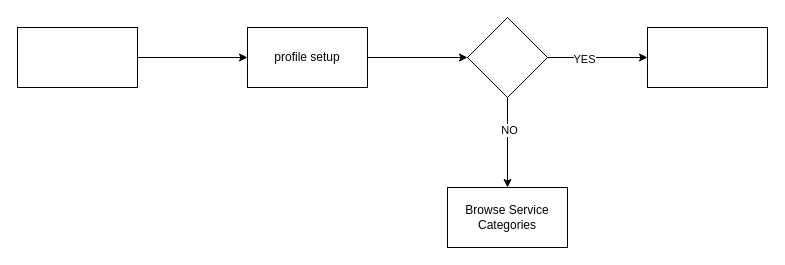
The diagram is 785 pixels wide and 265 high, and some of its shapes have lost their labels. Each missing label, with the box of its shape:
Provider?: (466, 16, 548, 98)
sign up: (16, 26, 138, 88)
